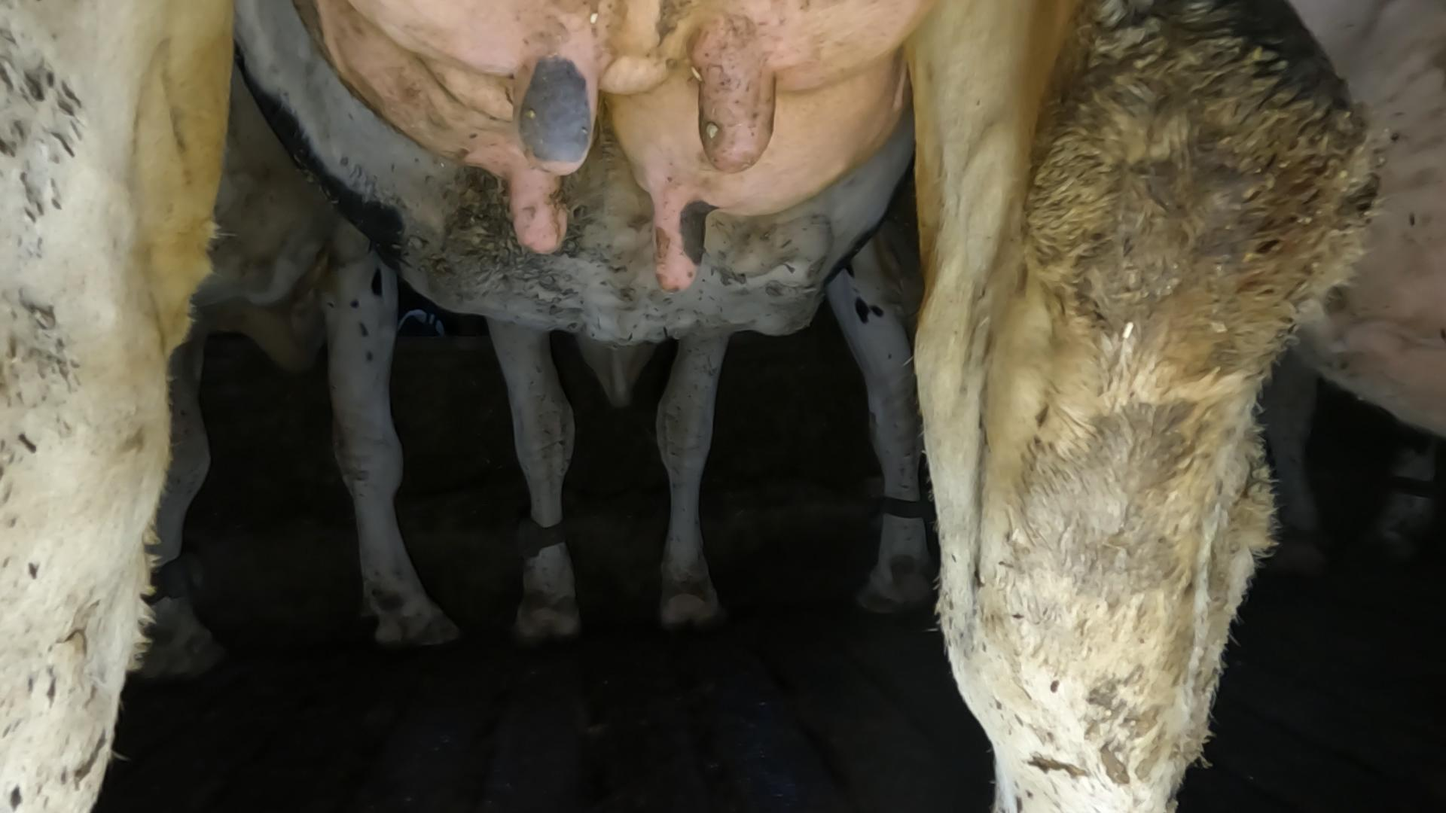Zitze: (502, 44, 616, 186), (692, 30, 789, 180), (639, 198, 721, 307), (506, 161, 563, 275)
